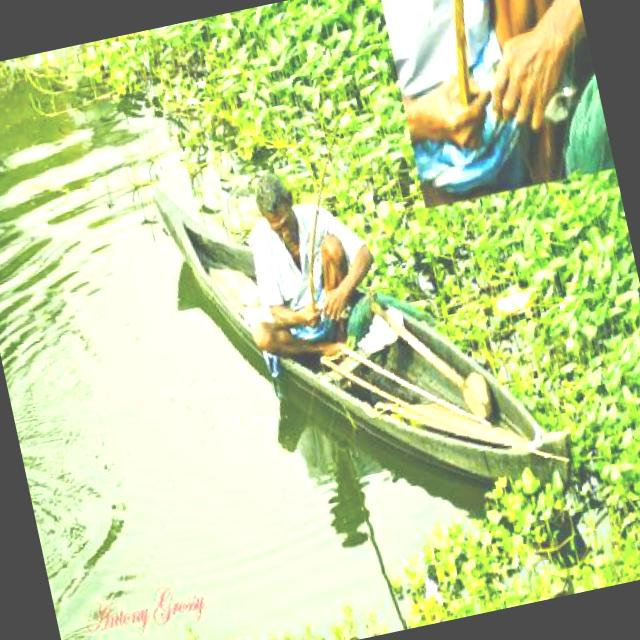Person: (376, 0, 613, 203), (219, 154, 393, 382)
